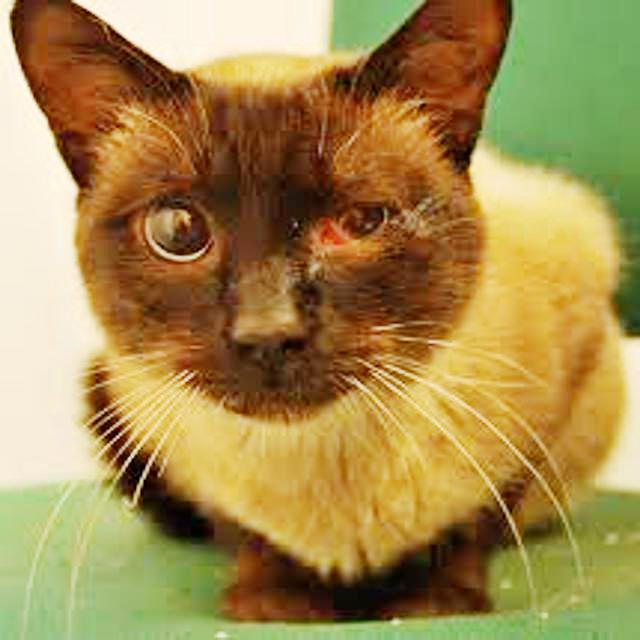eye_infection: (324, 204, 384, 251)
